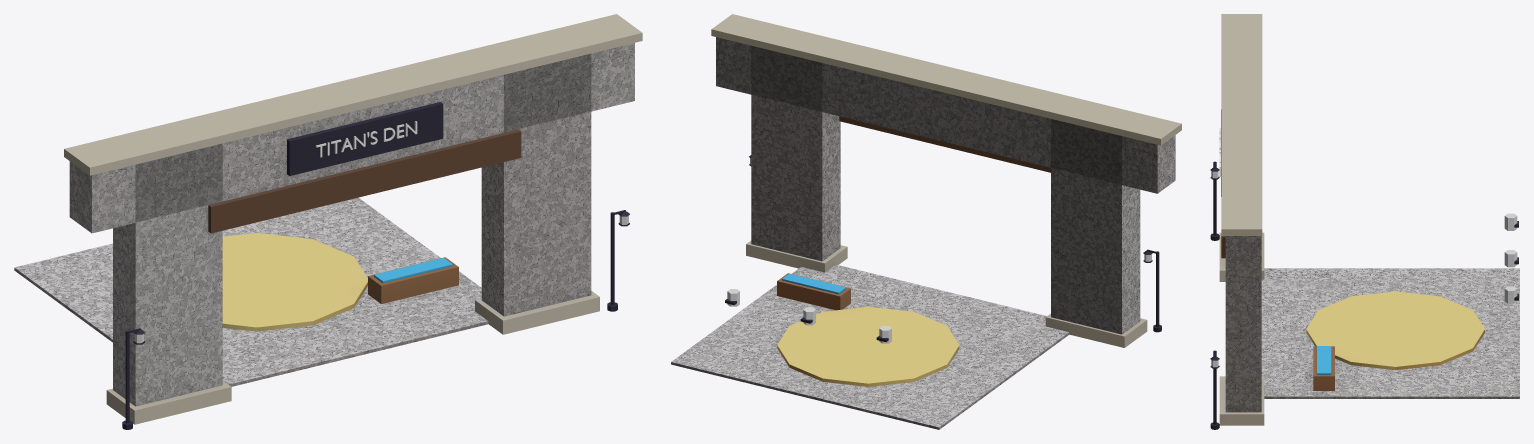
The model's file is home_den_2.fbx.
The picture shows the model from 3 angles, left to right: view 1: azimuth 30°, elevation 25°; view 2: azimuth 150°, elevation 25°; view 3: azimuth 270°, elevation 25°; orthographic projection. The views are drawn at different scales.
Parts seen in each view (by area): view 1: home_den_2_body; view 2: home_den_2_body, home_den_2_body_glow; view 3: home_den_2_body, home_den_2_body_glow.
Part boxes in pixels (x1,y1,x2,y2): home_den_2_body: [14, 14, 642, 429]; home_den_2_body: [671, 14, 1181, 429]; home_den_2_body_glow: [727, 289, 891, 343]; home_den_2_body: [1210, 14, 1519, 429]; home_den_2_body_glow: [1504, 213, 1517, 303].
Bounding box in the file's own units: 5700 × 2630 × 3466.
2 materials, 1 textured.
